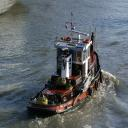tugboat: (27, 22, 105, 120)
